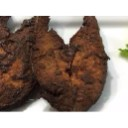seerfish: (32, 17, 108, 110), (1, 16, 37, 108)
